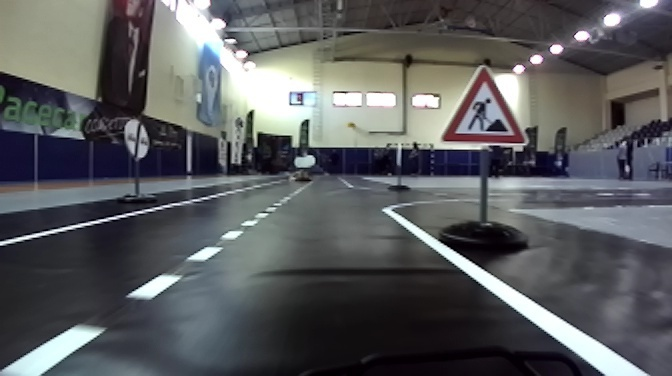yol_yapimi: (435, 61, 536, 143)
